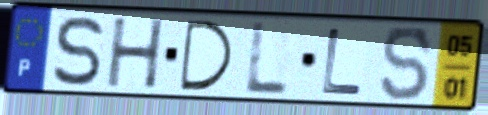D: (178, 17, 237, 93)
H: (105, 16, 168, 91)
L: (241, 20, 291, 98), (319, 25, 366, 97)
S: (379, 23, 435, 103), (50, 13, 107, 89)
